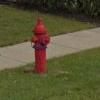Hydrant: (24, 9, 54, 81)
